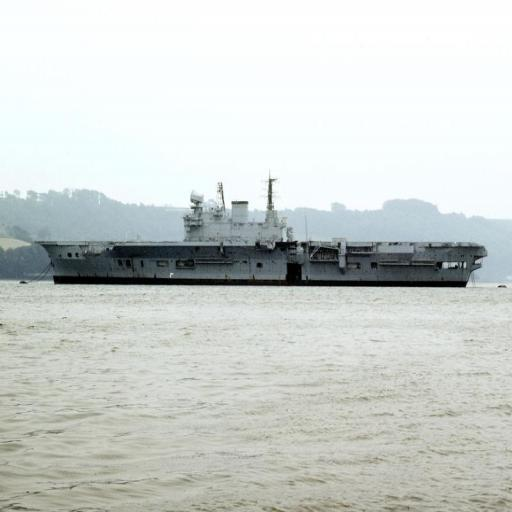Portanaves: (35, 168, 489, 288)
